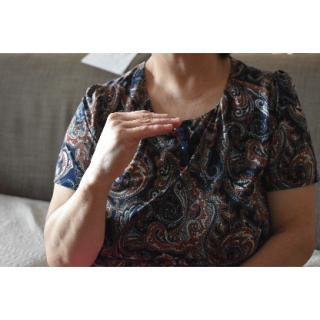HAA: (92, 109, 184, 181)
